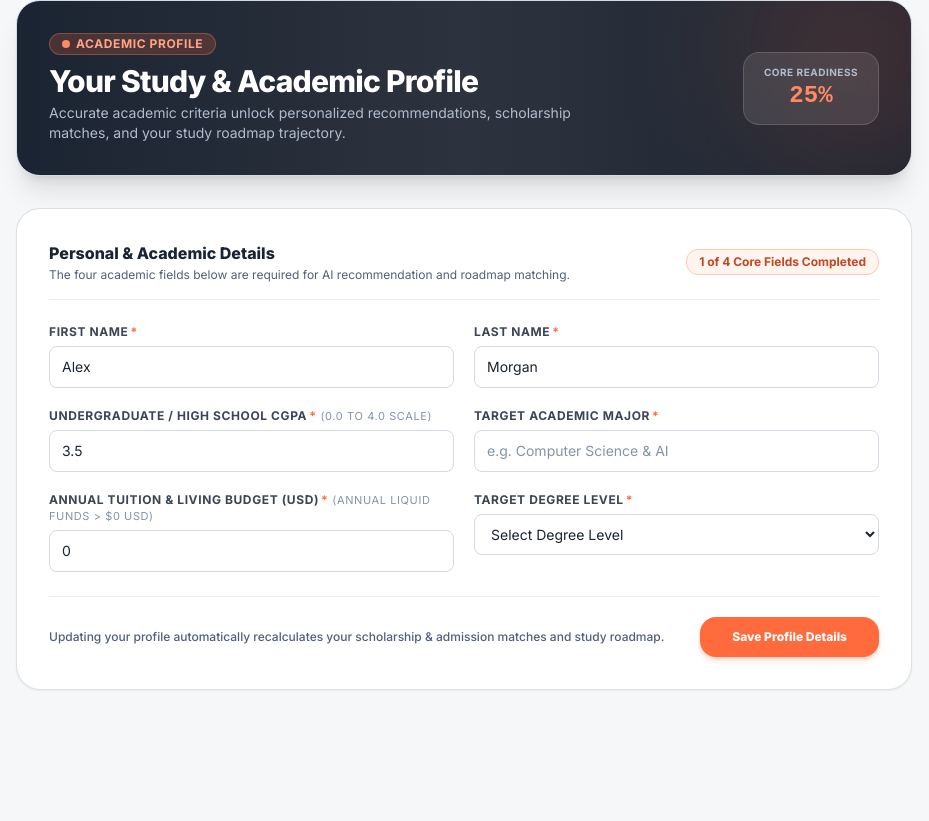
Test case: Student Profile Completion Onboarding Flow › Profile page marks required fields, shows inline validation errors, and prevents saving invalid data
Expected: the field with test id "input-firstName" holds "Alex", x1=49 y1=346 x2=454 y2=388
// Set invalid CGPA and invalid budget
Replace the text in the number field with test id "input-cgpa" with "5.0": {"x": 252, "y": 451} x1=49 y1=430 x2=454 y2=472
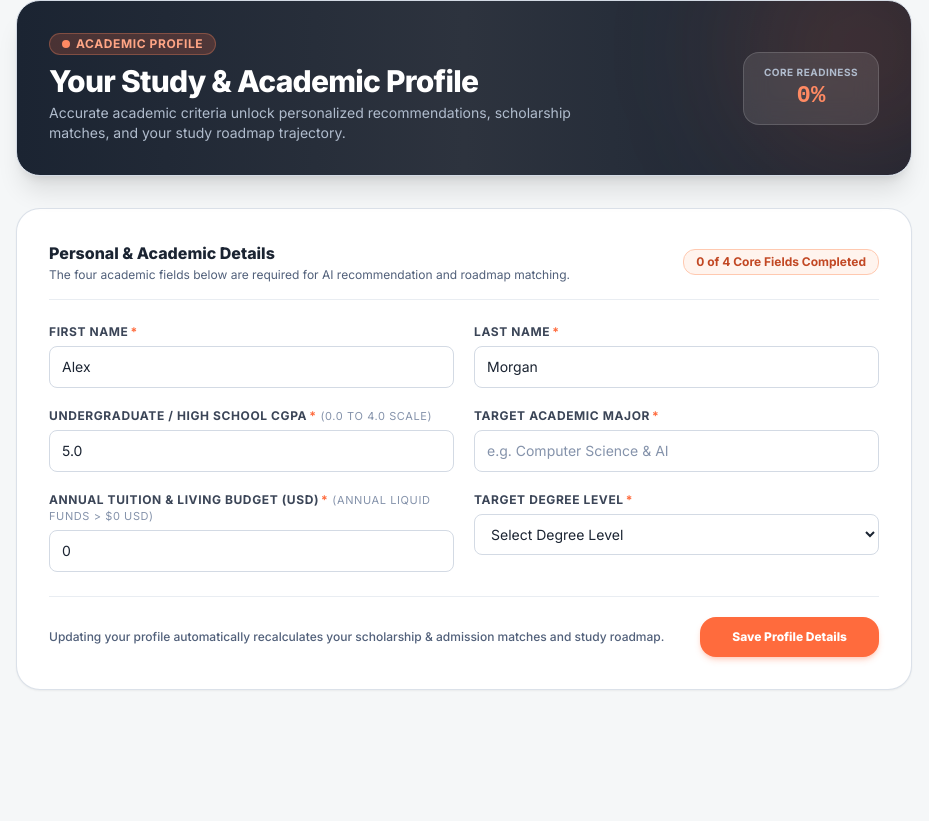
Replace the text in the number field with test id "input-budgetUsd" with "-200": {"x": 252, "y": 551} x1=49 y1=530 x2=454 y2=572
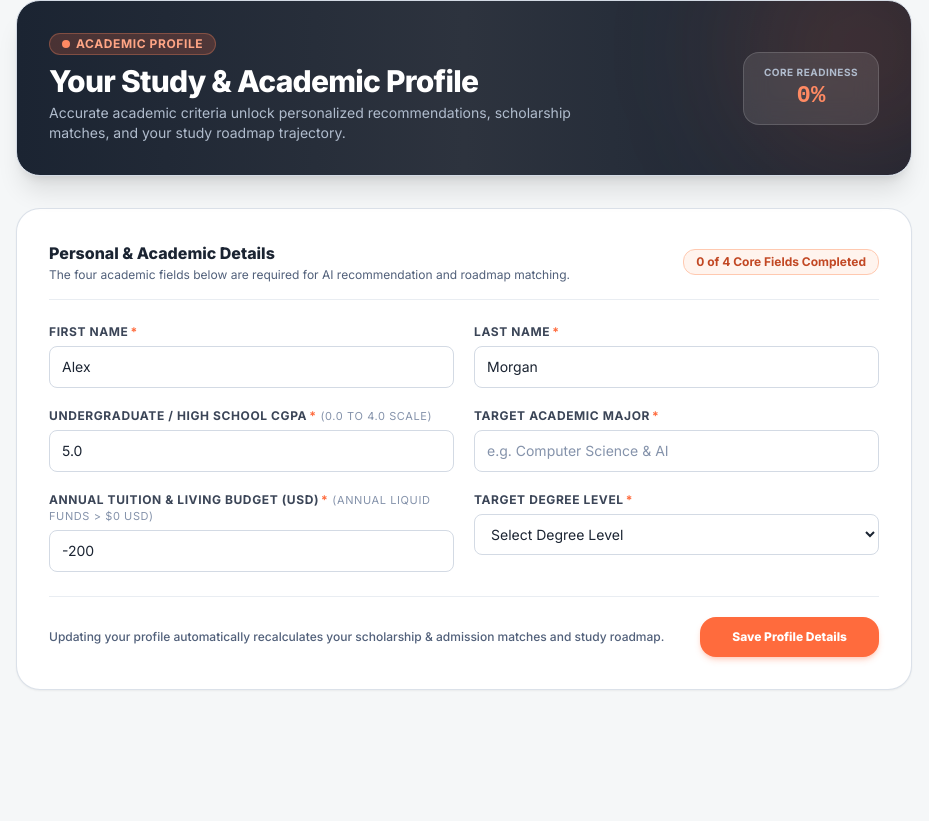
// Attempt save
Click the button with test id "save-profile-btn": {"x": 790, "y": 637} x1=700 y1=617 x2=879 y2=657
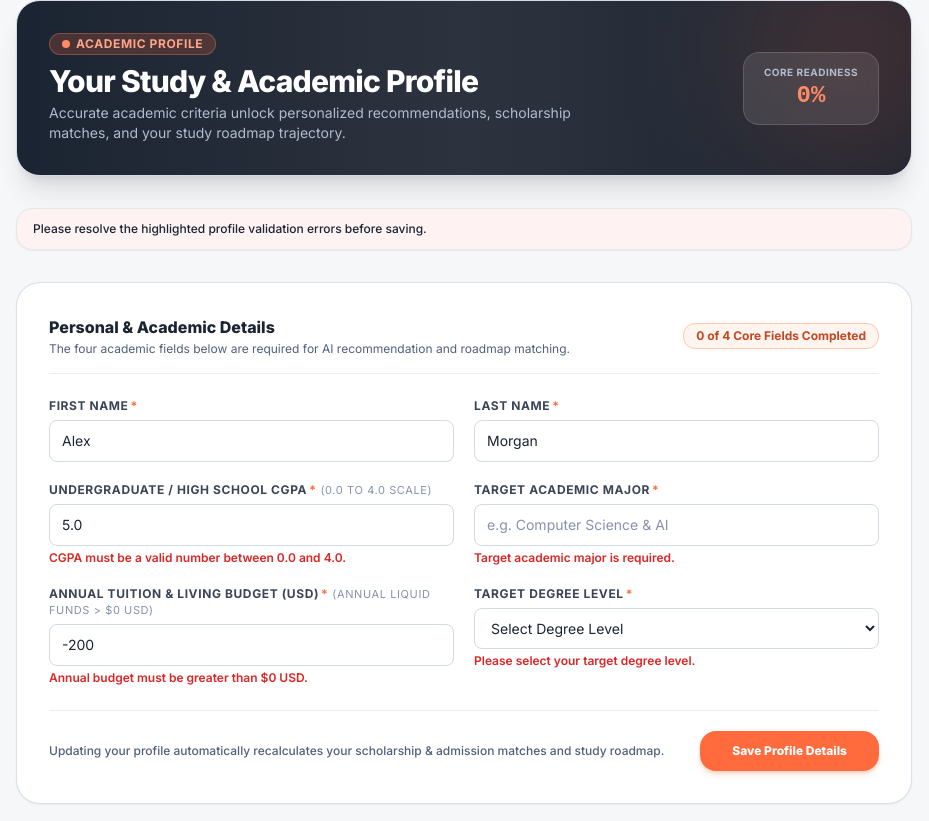
Expected: the text with test id "error-cgpa" shows "0.0 and 4.0", x1=49 y1=550 x2=346 y2=565
Expected: the text with test id "error-budgetUsd" shows "greater than $0", x1=49 y1=670 x2=308 y2=685
Expected: the message "Please resolve the highlighted profile validation errors before saving." is shown, x1=16 y1=208 x2=912 y2=250
